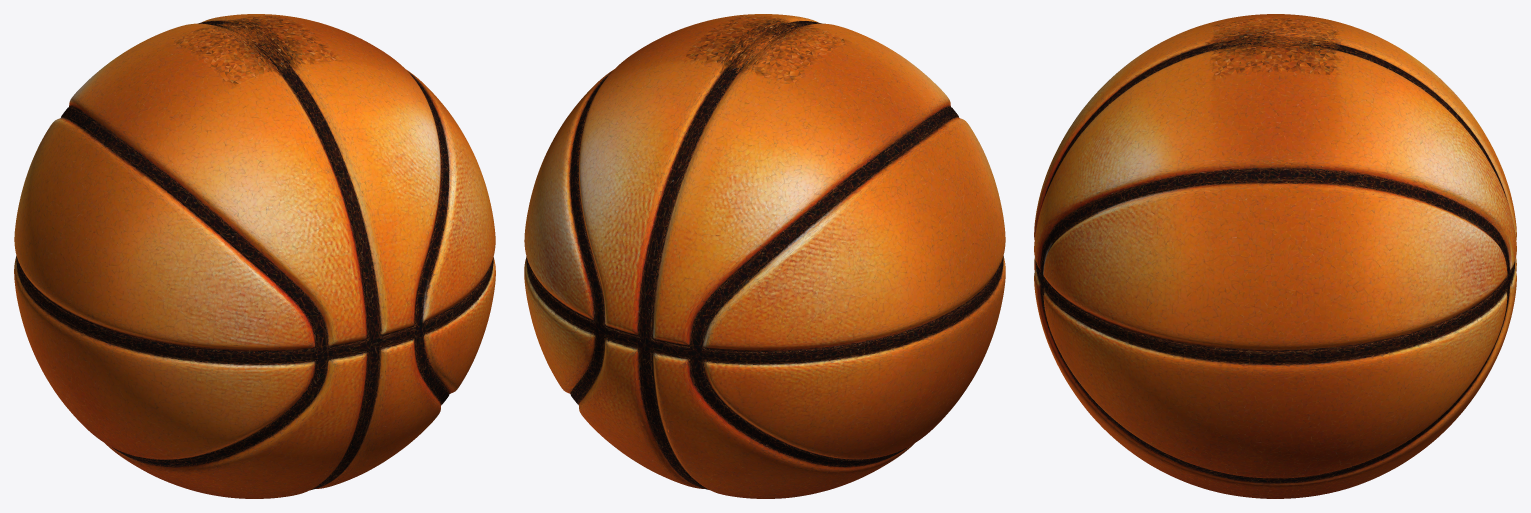
File: Orange_ball_new_opt.glb
The picture shows the model from 3 angles, left to right: view 1: azimuth 30°, elevation 25°; view 2: azimuth 150°, elevation 25°; view 3: azimuth 270°, elevation 25°; orthographic projection.
Parts seen in each view (by area): view 1: 9-h5k-vPeNJH8_lBZjeBB; view 2: 9-h5k-vPeNJH8_lBZjeBB; view 3: 9-h5k-vPeNJH8_lBZjeBB.
Part boxes in pixels (left/top/right/bottom): 9-h5k-vPeNJH8_lBZjeBB: left=14, top=14, right=495, bottom=498; 9-h5k-vPeNJH8_lBZjeBB: left=524, top=14, right=1005, bottom=498; 9-h5k-vPeNJH8_lBZjeBB: left=1034, top=14, right=1516, bottom=498.
Size of the model in its own units: 1.18 by 1.19 by 1.19.
Materials: 1 (1 with a texture image).
